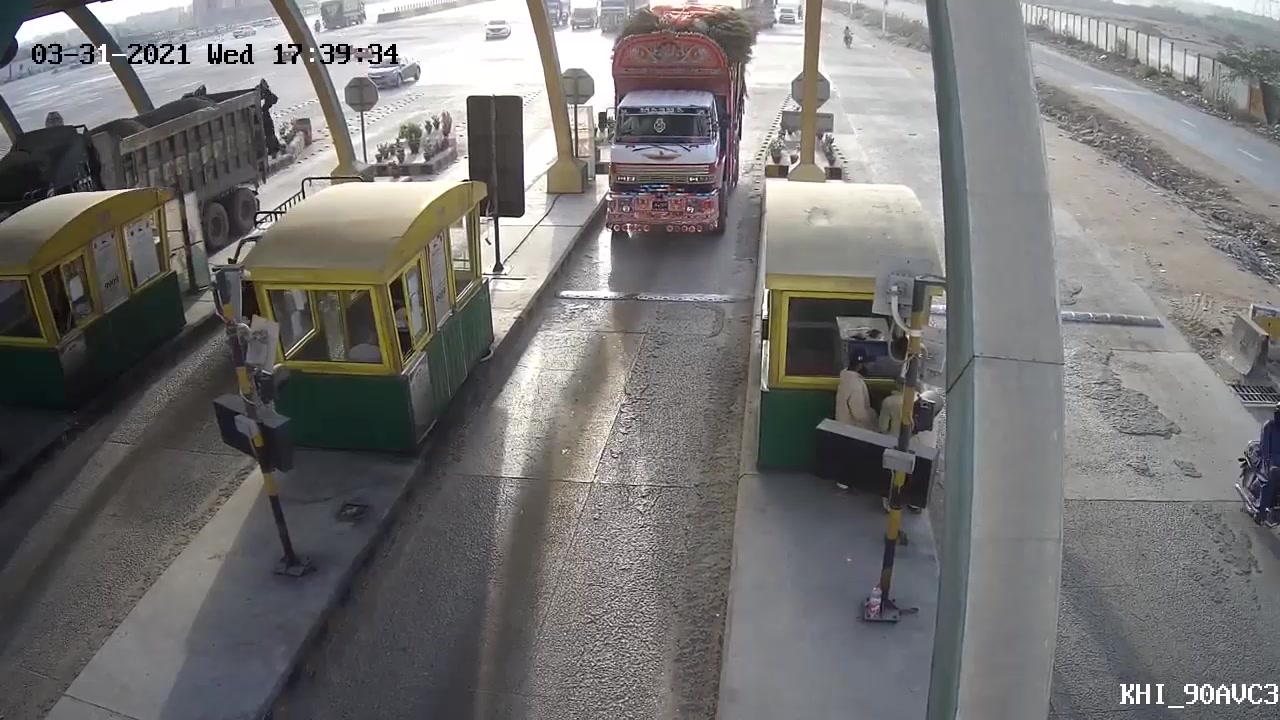F5: (599, 1, 758, 264)
